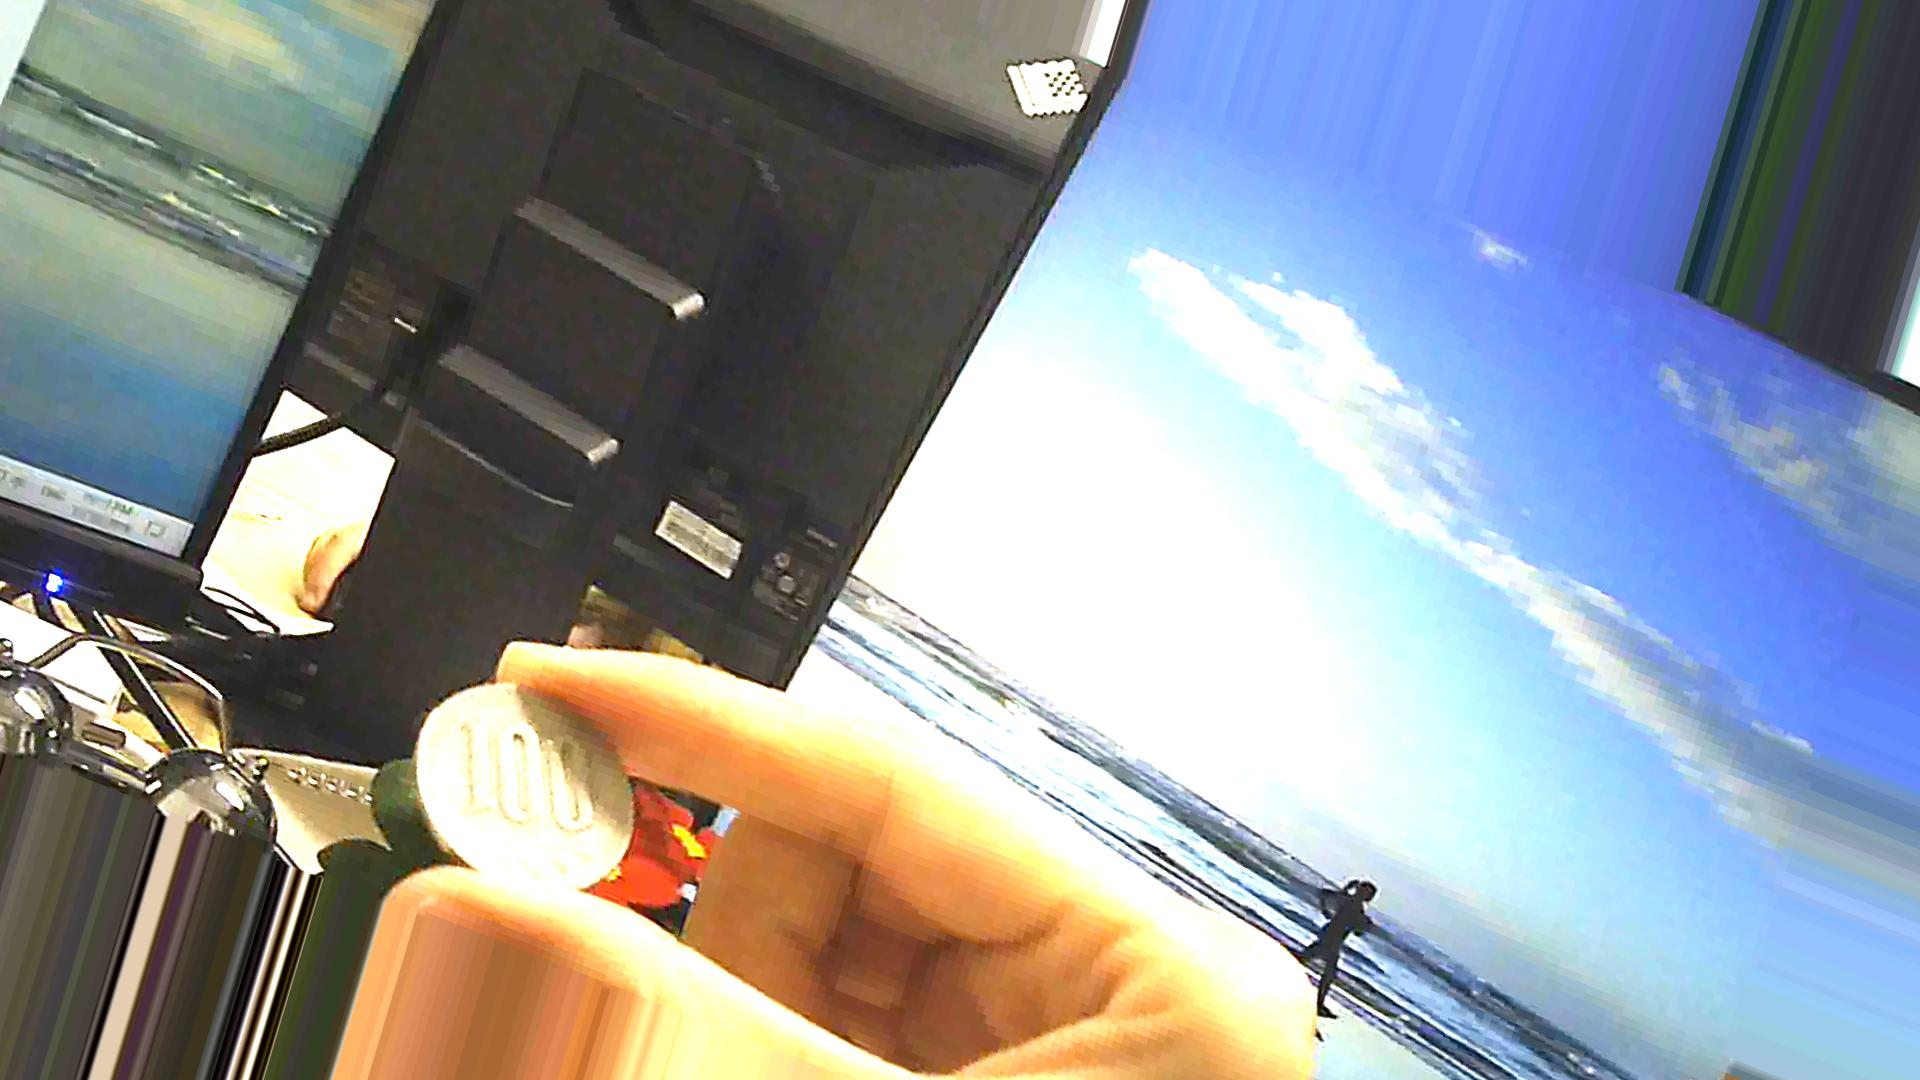100 Yen: (415, 674, 644, 906)
